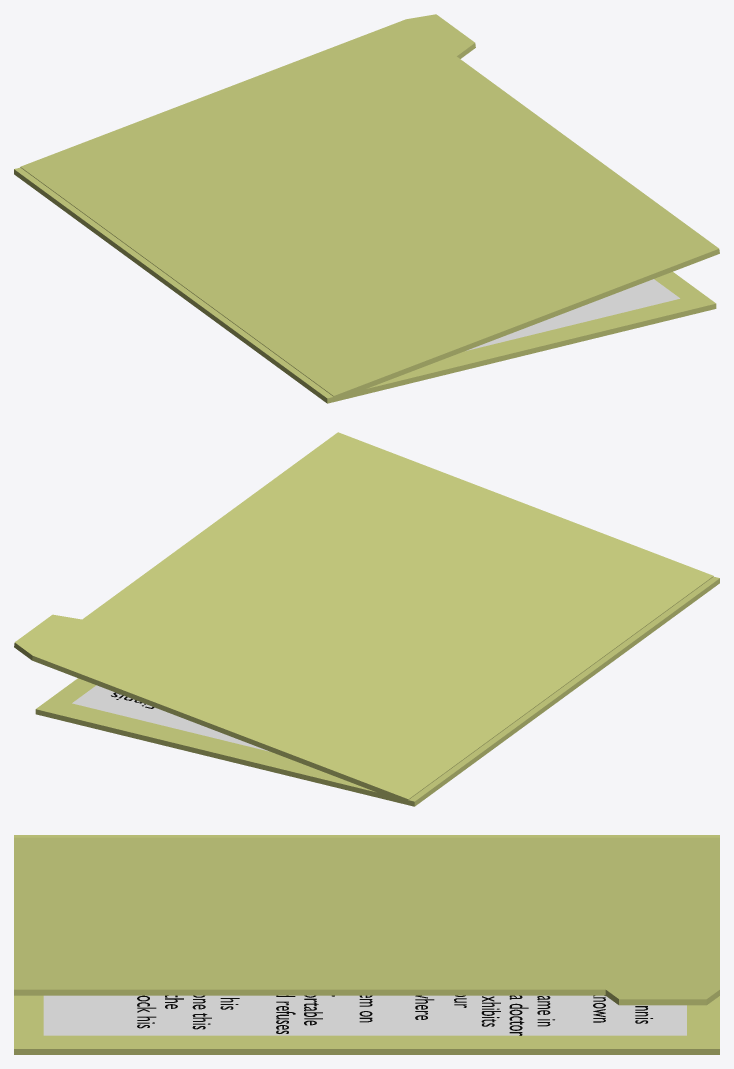
3 views of the same model, one above another, from view 1: azimuth 30°, elevation 25°; view 2: azimuth 150°, elevation 25°; view 3: azimuth 270°, elevation 25° (orthographic). The views are drawn at different scales.
Parts seen in each view (by area): view 1: Cube.001, Cube; view 2: Cube.001, Cube; view 3: Cube.001, Cube, Text.002, Text.001.
Boxes of the visible parts, x1=… form: Cube.001: x1=20, y1=14, x2=719, y2=400; Cube: x1=14, y1=167, x2=716, y2=403; Cube.001: x1=14, y1=432, x2=713, y2=799; Cube: x1=35, y1=576, x2=719, y2=806; Cube.001: x1=14, y1=837, x2=719, y2=1005; Cube: x1=14, y1=835, x2=719, y2=1054; Text.002: x1=137, y1=995, x2=434, y2=1033; Text.001: x1=454, y1=995, x2=605, y2=1035.
Bounding box in the file's own units: 214 × 30.87 × 279.
